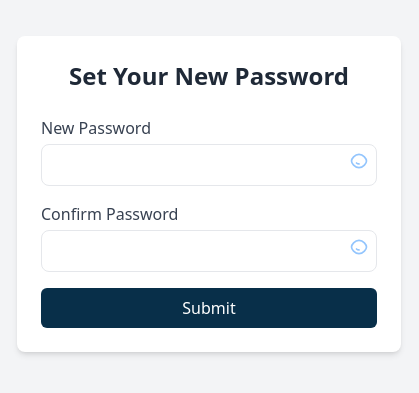
ResetPassword Component › displays "An error occurred" if a network error occurs
# Simulate entering matching passwords
Type "password1" into the password field with test id "password-input" at (209, 165), box x1=41 y1=144 x2=377 y2=186
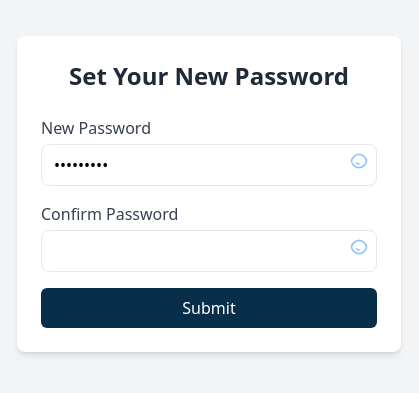
Type "password1" into the password field with test id "confirm-password-input" at (209, 251), box x1=41 y1=230 x2=377 y2=272
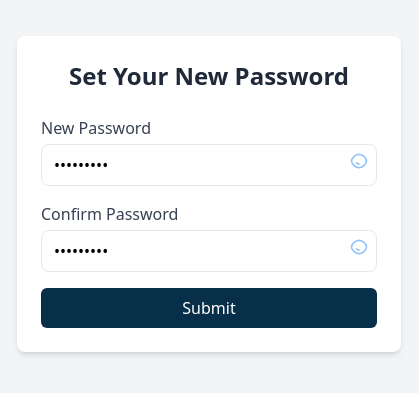
Click the button with test id "submit-button" at (209, 308), box x1=41 y1=288 x2=377 y2=328
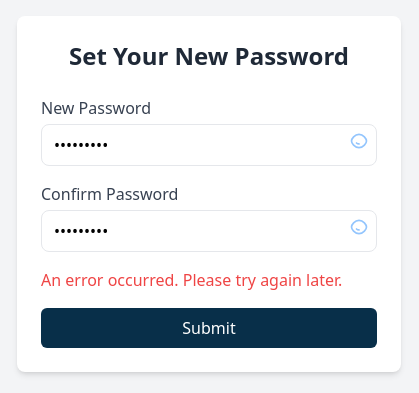
Result: the text with test id "error-message" reads "An error occurred. Please try again later." at x1=41 y1=269 x2=342 y2=291
